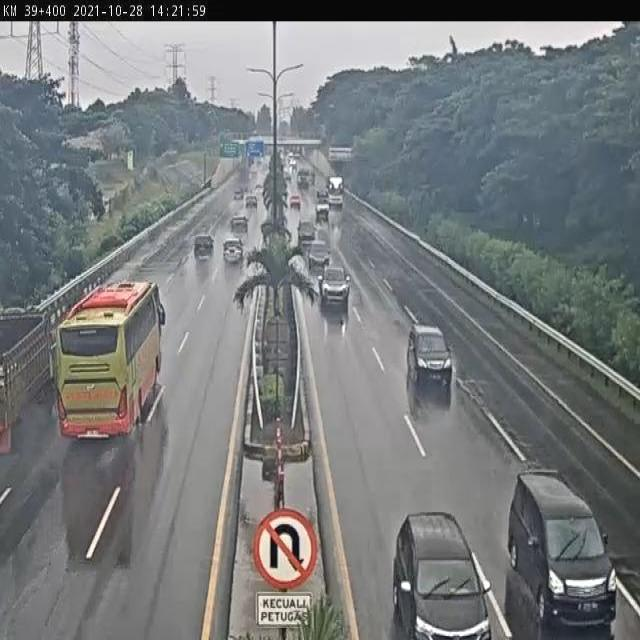Bus: (52, 280, 164, 437), (328, 177, 344, 209)
Car: (506, 470, 615, 632), (391, 511, 495, 640), (407, 321, 455, 406), (319, 265, 352, 313), (306, 242, 332, 269), (222, 237, 245, 264), (194, 234, 214, 260), (230, 215, 248, 233), (290, 194, 302, 210)
